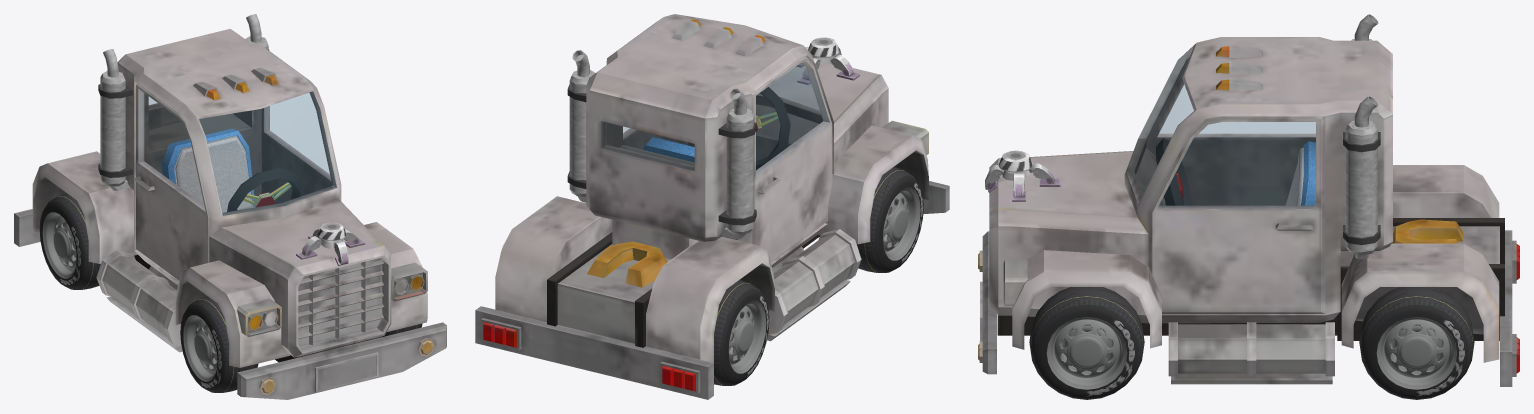
File: 09-Semi-Stock-White.glb
3 renders of one model, left to right at view 1: azimuth 30°, elevation 25°; view 2: azimuth 150°, elevation 25°; view 3: azimuth 270°, elevation 25°, orthographic. The views are drawn at different scales.
Visible parts, largest first — view 1: Semi, Glass.004, Tire (×2), Regular, Engine.004, Aero (×2), Torus, WEAPON MOUNT-Default_OBJ_3, INT_WHEEL_005; view 2: Semi, Glass.004, Engine.004, Tire (×2), Aero (×2), Torus, Regular, WEAPON MOUNT-Default_OBJ_3; view 3: Semi, Glass.004, Tire (×2), Aero (×2), Engine.004, Regular, Torus, WEAPON MOUNT-Default_OBJ_3.
Part boxes in pixels (bbox=[...]): Semi: bbox=[14, 29, 446, 399]; Glass.004: bbox=[139, 90, 336, 215]; Tire (×2): bbox=[39, 193, 258, 392]; Regular: bbox=[161, 128, 254, 212]; Engine.004: bbox=[98, 14, 269, 190]; Aero (×2): bbox=[42, 212, 217, 381]; Torus: bbox=[227, 168, 301, 211]; WEAPON MOUNT-Default_OBJ_3: bbox=[317, 222, 346, 248]; INT_WHEEL_005: bbox=[243, 182, 291, 207]; Semi: bbox=[475, 14, 949, 399]; Glass.004: bbox=[601, 62, 829, 176]; Engine.004: bbox=[567, 50, 756, 239]; Tire (×2): bbox=[714, 167, 923, 385]; Aero (×2): bbox=[728, 187, 920, 373]; Torus: bbox=[756, 87, 790, 170]; Regular: bbox=[643, 137, 694, 162]; WEAPON MOUNT-Default_OBJ_3: bbox=[808, 37, 839, 64]; Semi: bbox=[978, 37, 1519, 386]; Glass.004: bbox=[1126, 47, 1315, 208]; Tire (×2): bbox=[1029, 287, 1474, 399]; Aero (×2): bbox=[1046, 317, 1457, 389]; Engine.004: bbox=[1343, 14, 1380, 258]; Regular: bbox=[1285, 141, 1315, 205]; Torus: bbox=[1156, 138, 1192, 205]; WEAPON MOUNT-Default_OBJ_3: bbox=[998, 150, 1033, 180].
Size of the model in its own units: 5.7 by 6.38 by 10.73.
9 materials, 8 textured.
